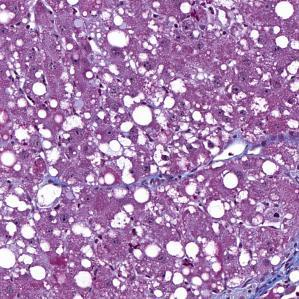fibrosis: (238, 254, 299, 298)
